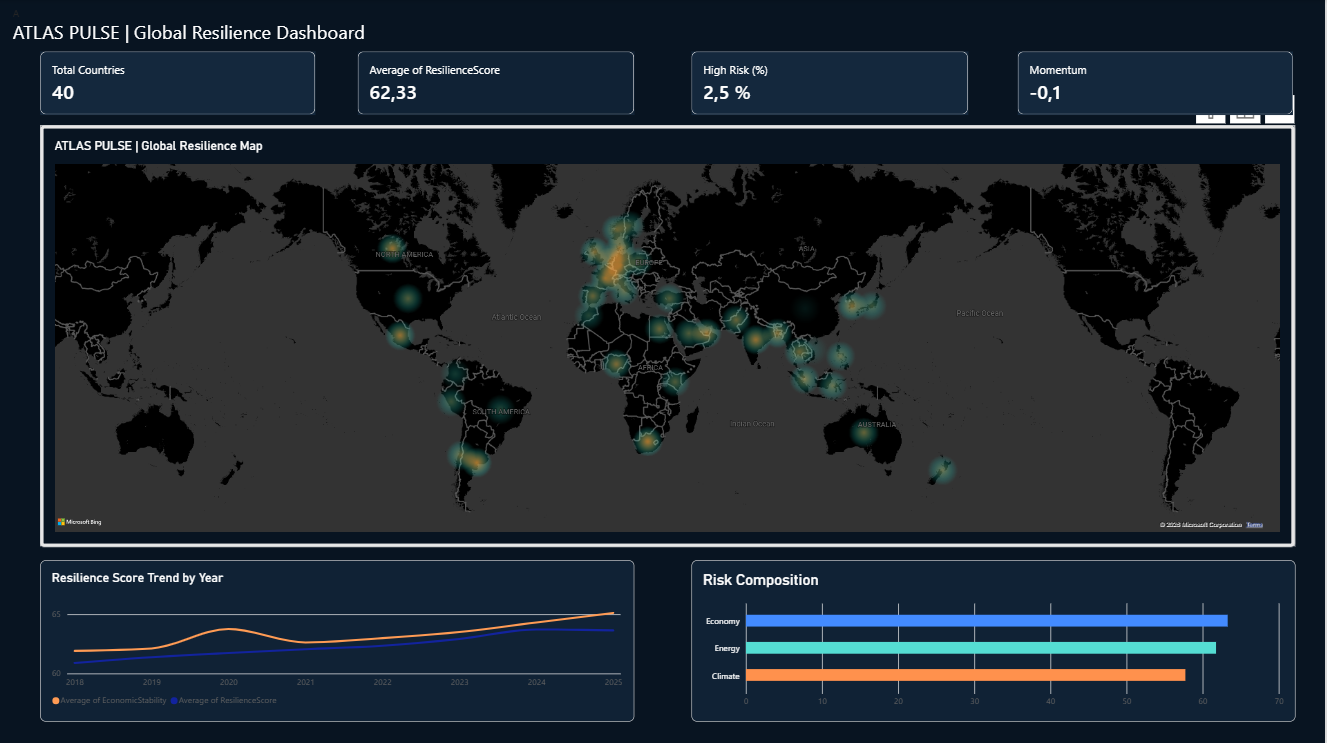

The page's visual inventory and layout, read from the dashboard file:
{"tool":"powerbi","page":{"name":"ATLAS PULSE","canvas":[1920,1080],"ordinal":0},"visuals":[{"type":"cardVisual","fields":{"Data":["Avg(FactCountryYear.ResilienceScore)"]},"box":[519.7,75.1,400.7,91.8],"z":0},{"type":"lineChart","title":"Resilience Score Trend by Year","fields":{"Category":["DimYear.Year"],"Y":["Avg(FactCountryYear.EconomicStability)","Avg(FactCountryYear.ResilienceScore)"]},"box":[60.5,811.8,859.8,233.7],"z":3000},{"type":"clusteredBarChart","title":"Risk Composition","fields":{"Category":["RiskCategories.Category"],"Y":["RiskCategories.Risk Composition Value"]},"box":[1001.7,811.8,874.4,233.7],"z":4000},{"type":"textbox","box":[19.9,10.9,899.4,65.1],"z":5000},{"type":"map","title":"ATLAS PULSE | Global Resilience Map","fields":{"Category":["DimCountry.Country"],"Size":["Sum(FactCountryYear.ResilienceScore)"],"X":["Avg(DimCountry.Longitude)"],"Y":["Avg(DimCountry.Latitude)"]},"box":[60,182,1816,610],"z":6000},{"type":"cardVisual","fields":{"Data":["DimCountry.Total Countries"]},"box":[60.5,75.1,398.6,91.8],"z":7000},{"type":"cardVisual","fields":{"Data":["DimCountry.High Risk (%)"]},"box":[1001.7,75.1,400.7,91.8],"z":8000},{"type":"cardVisual","fields":{"Data":["DimCountry.Momentum"]},"box":[1475.5,75.1,398.6,91.8],"z":9000}]}

Visuals, with their boxes in screenshot pixels (x1, y1, x2, y2), scaled from the page's 1920x1080 canvas onto the 1327x743 screenshot:
cardVisual - Avg(FactCountryYear.ResilienceScore): box=[359, 52, 636, 115]
"Resilience Score Trend by Year" lineChart: box=[42, 558, 636, 719]
"Risk Composition" clusteredBarChart: box=[692, 558, 1297, 719]
textbox: box=[14, 7, 635, 52]
"ATLAS PULSE | Global Resilience Map" map: box=[41, 125, 1297, 545]
cardVisual - DimCountry.Total Countries: box=[42, 52, 317, 115]
cardVisual - DimCountry.High Risk (%): box=[692, 52, 969, 115]
cardVisual - DimCountry.Momentum: box=[1020, 52, 1295, 115]
